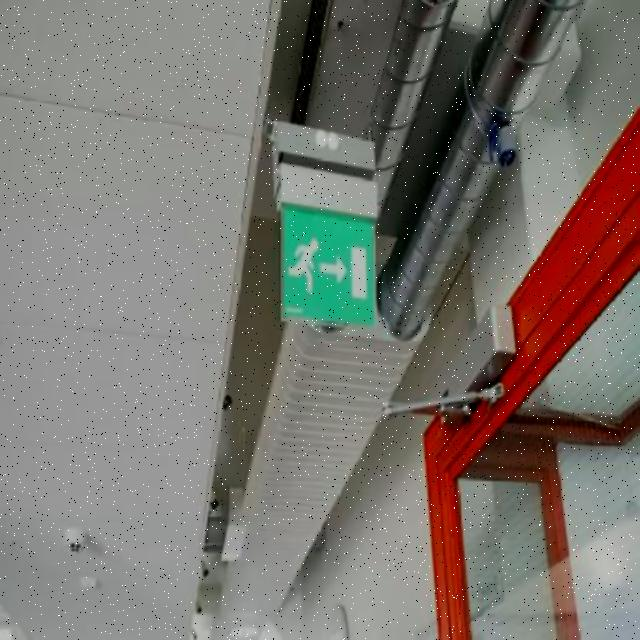emergency_exit: (277, 200, 379, 328)
